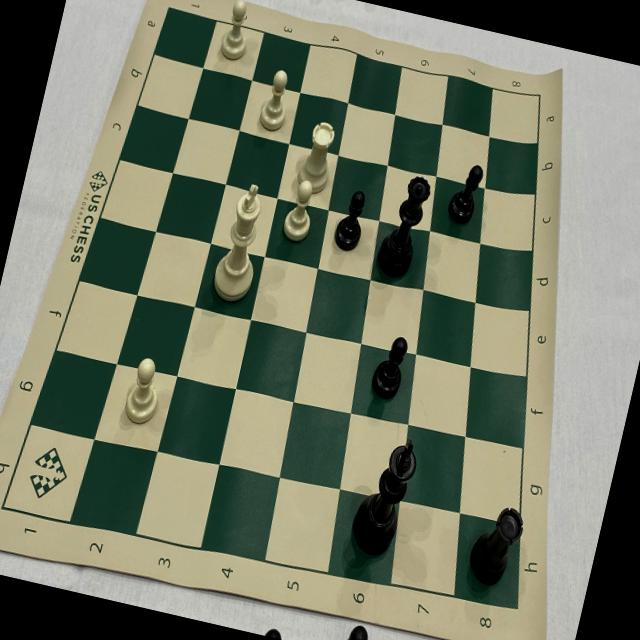black-king: (342, 427, 423, 568)
black-pawn: (365, 328, 414, 406), (330, 184, 374, 256), (445, 156, 487, 228)
black-queen: (371, 163, 436, 286)
black-rook: (460, 498, 529, 596)
white-king: (202, 176, 278, 312)
white-pawn: (116, 353, 169, 433), (251, 61, 300, 138), (273, 172, 322, 248), (212, 0, 259, 67)
white-rook: (290, 114, 344, 202)
